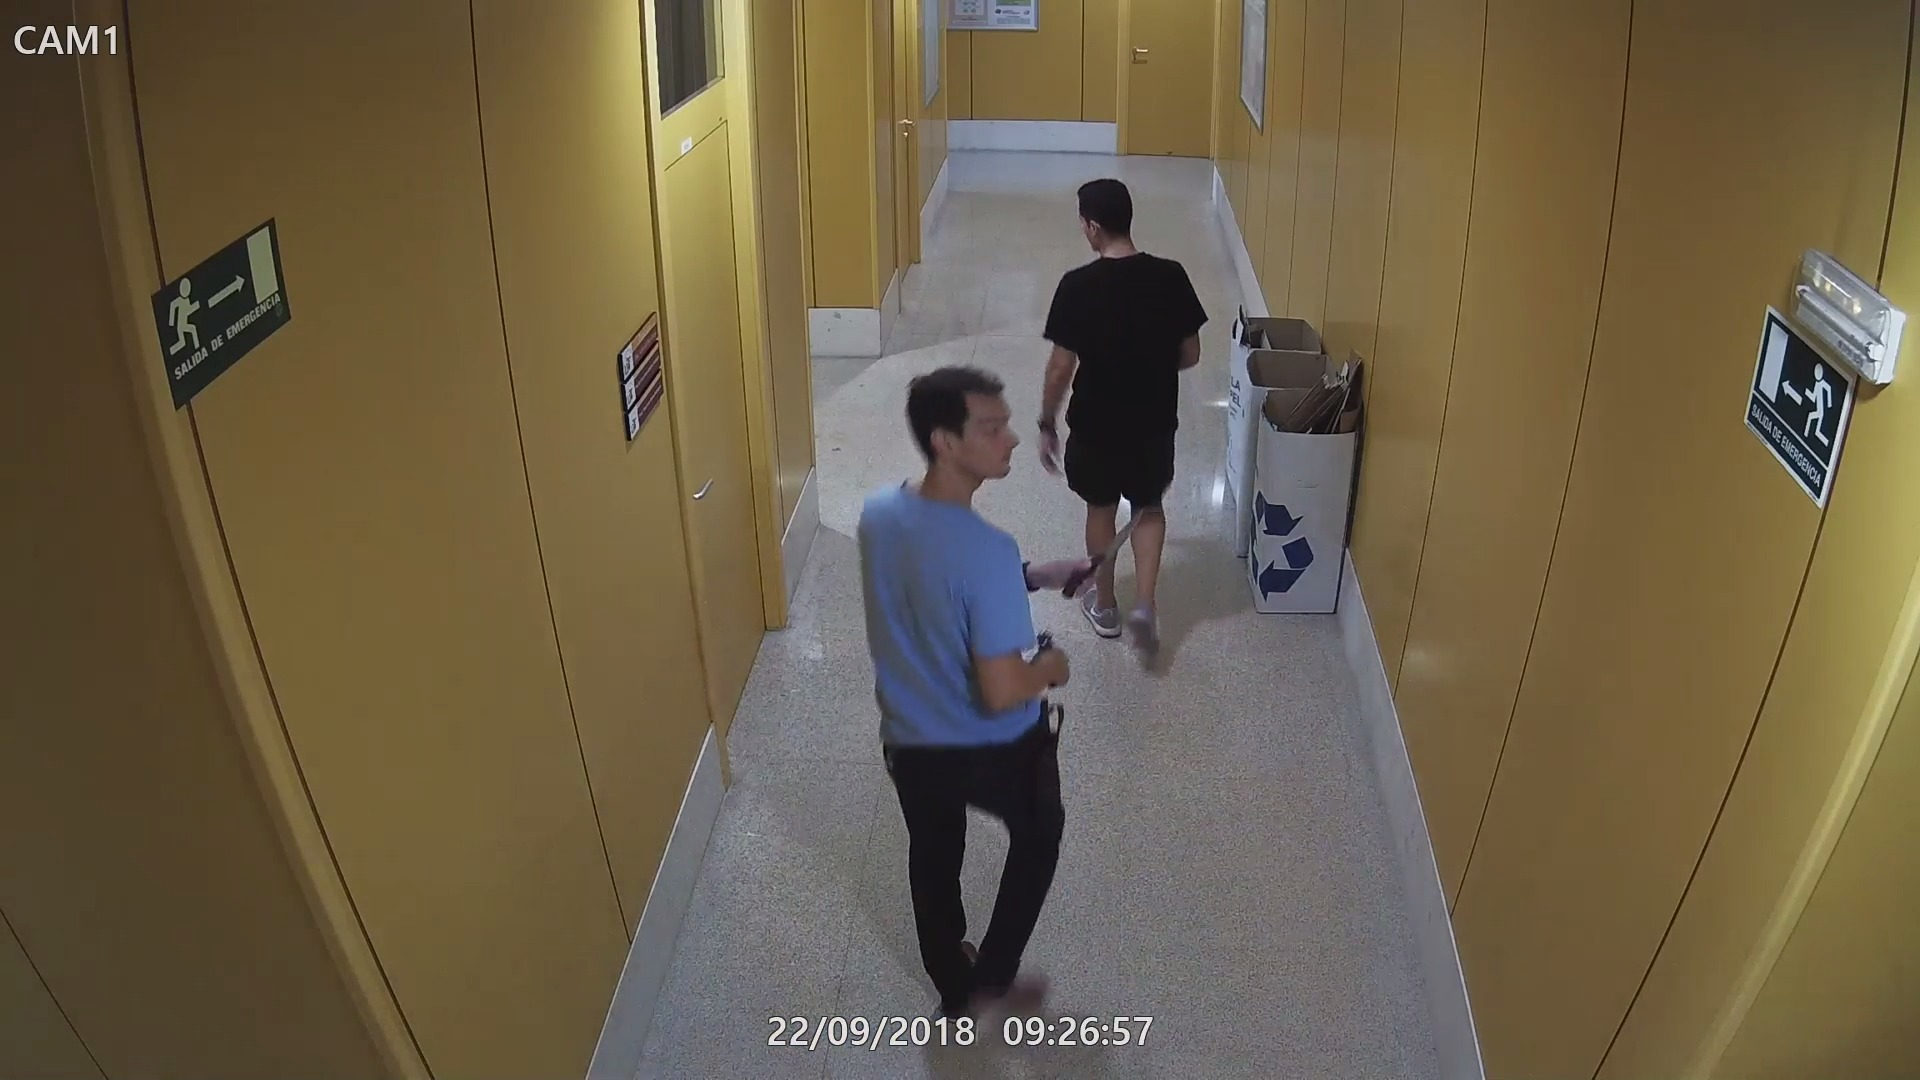Handgun: (1030, 629, 1071, 692)
Knife: (1038, 501, 1149, 604)
